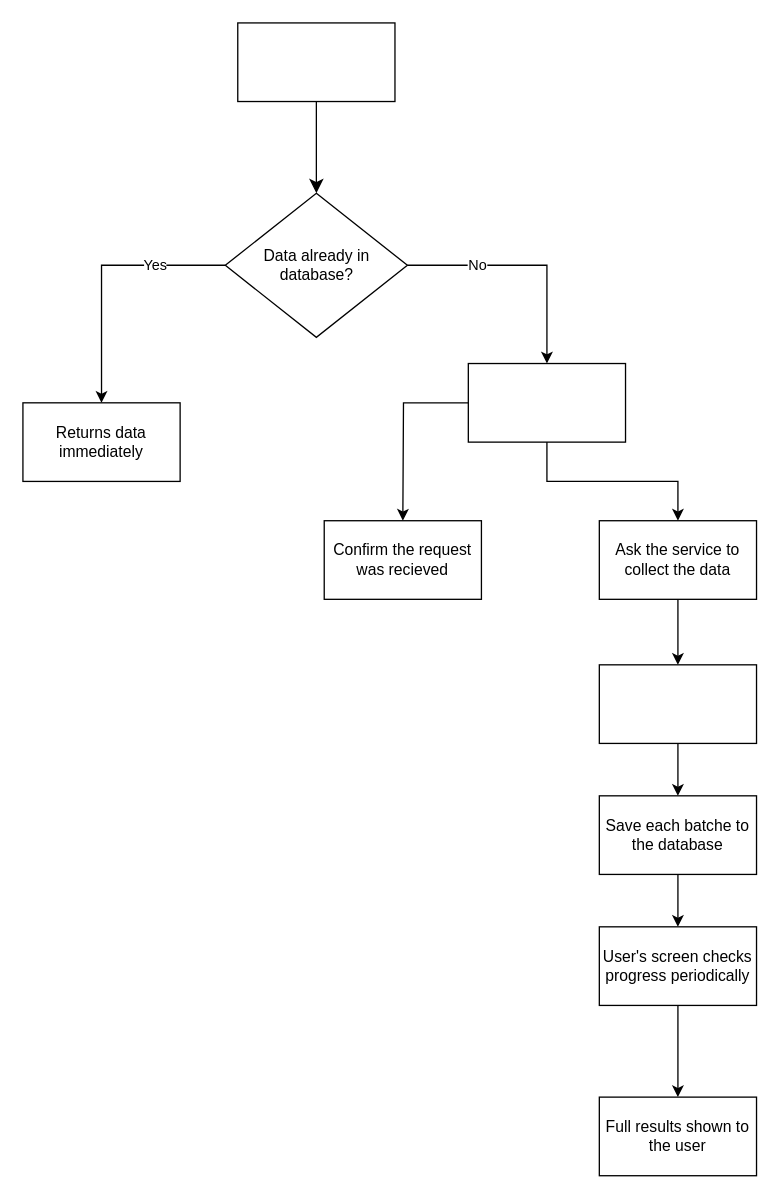
Some shapes in this 779 by 1199 pixel diagram are drawn without their labels. The shapes that lost their labels are listed below. From the top down, each one's centre as x and y in pixels, then its label:
At point (315, 62): "Search Request".
At point (546, 402): "Start Data Collection".
At point (677, 703): "Scraping service sends back results in batches".
